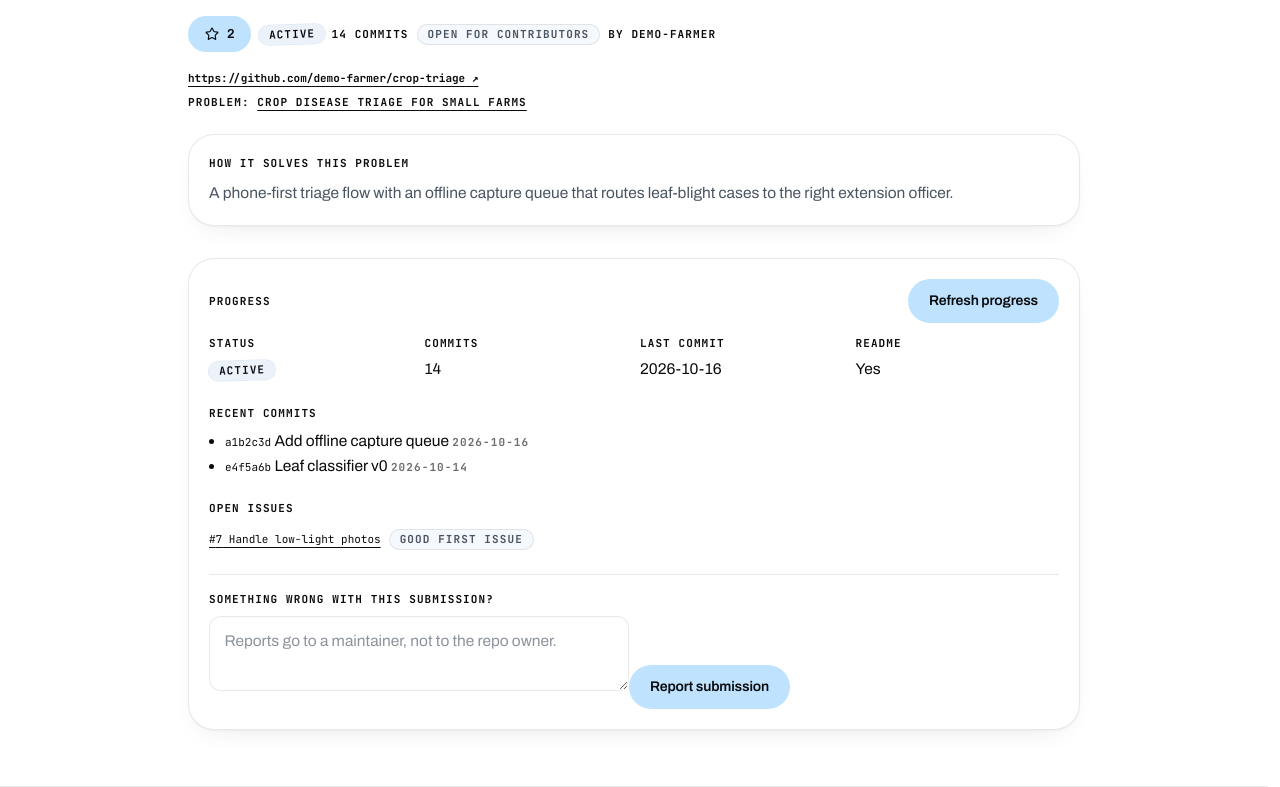
Scenario: ProjectDetailPage › maps report errors honestly: 409 already reported, 429 rate limited
(page scrolled)
Type "The progress numbers look stale to me." into the text box labelled "Something wrong with this submission?" at (419, 654), box [209,616,629,691]
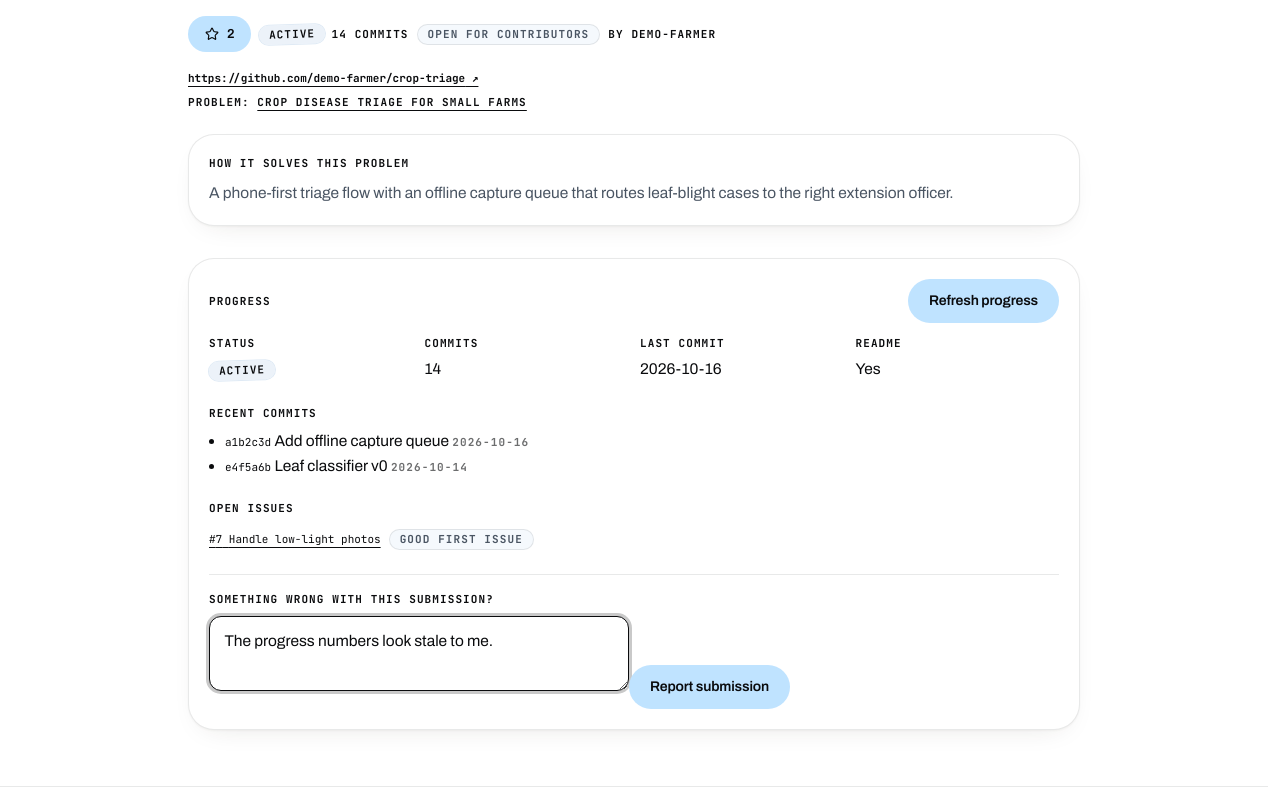
Click the button "Report submission" at (710, 687), box [629,665,790,709]
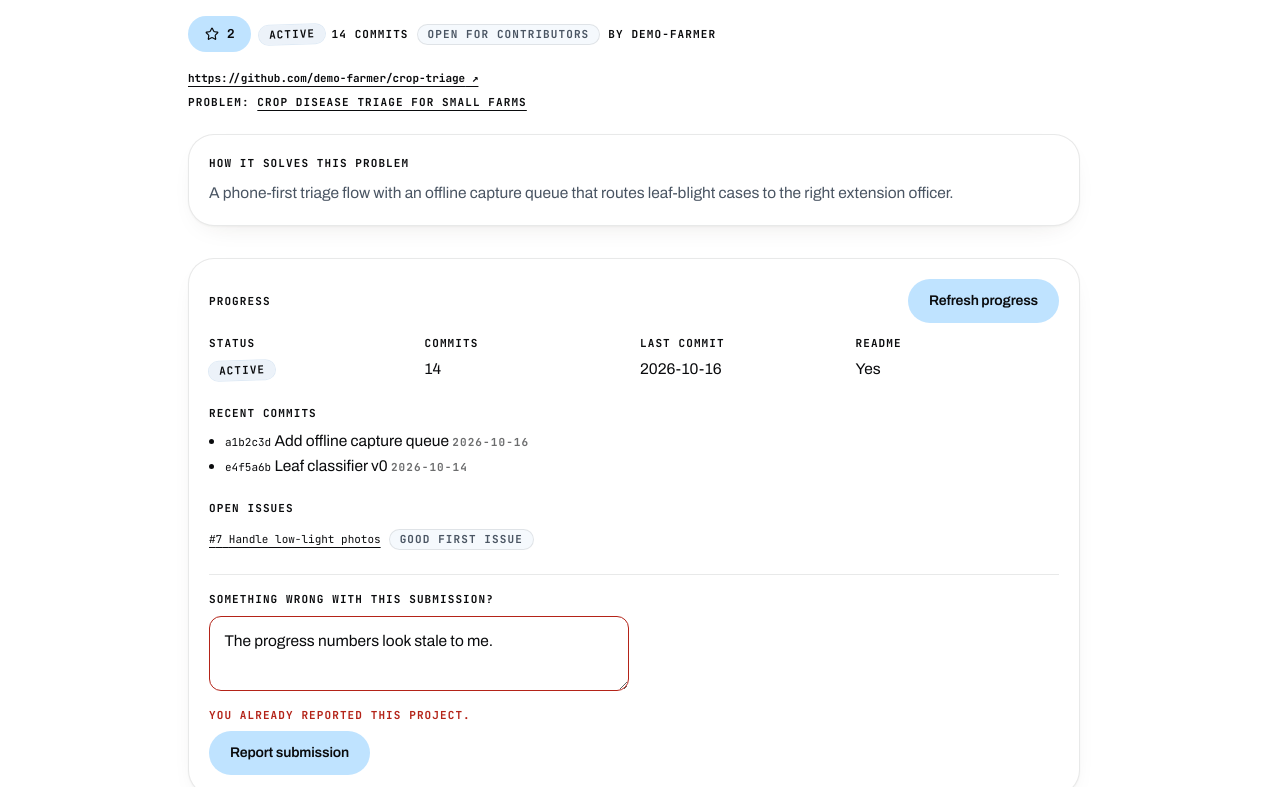
Expected: the text "You already reported this project." is shown, [209,708,471,722]
Replace the text in the text box labelled "Something wrong with this submission?" with "Another concrete reason to try again." at (419, 654), box [209,616,629,691]
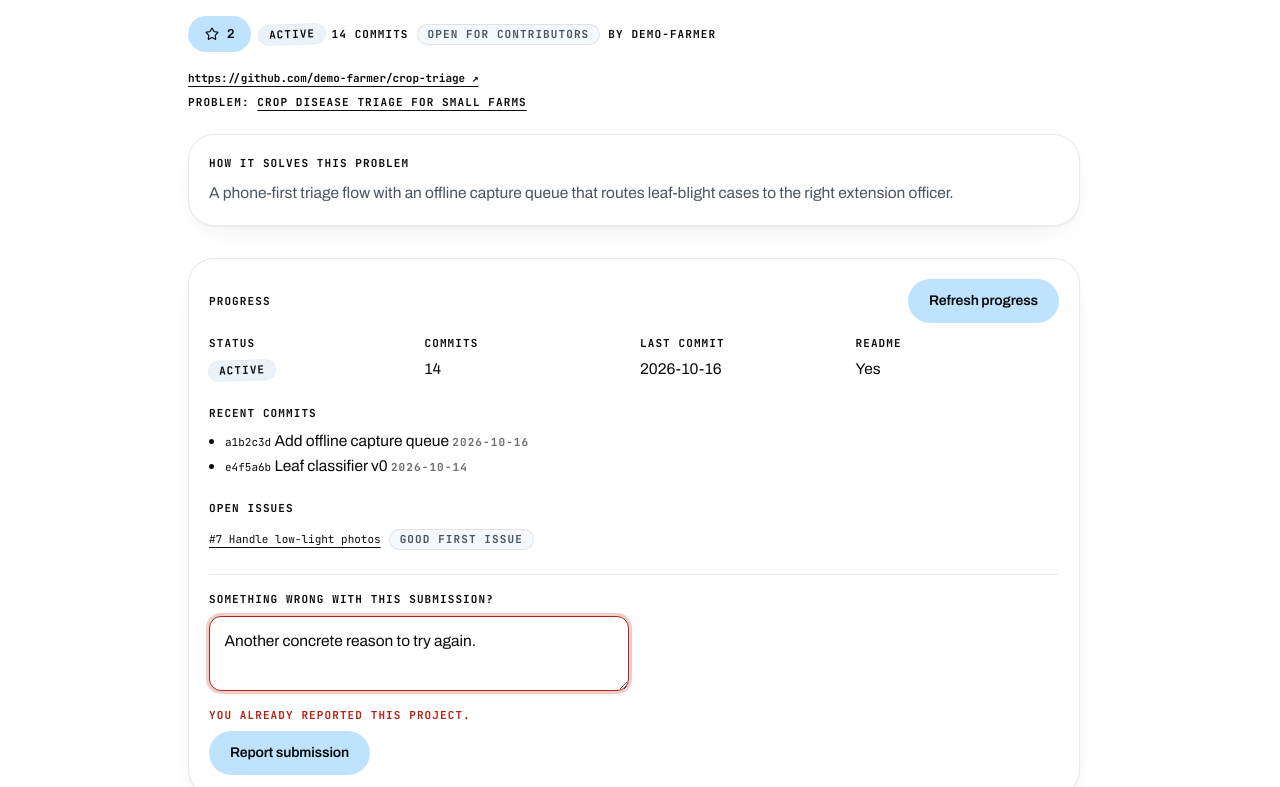
Click the button "Report submission" at (290, 754), box [209,732,370,776]
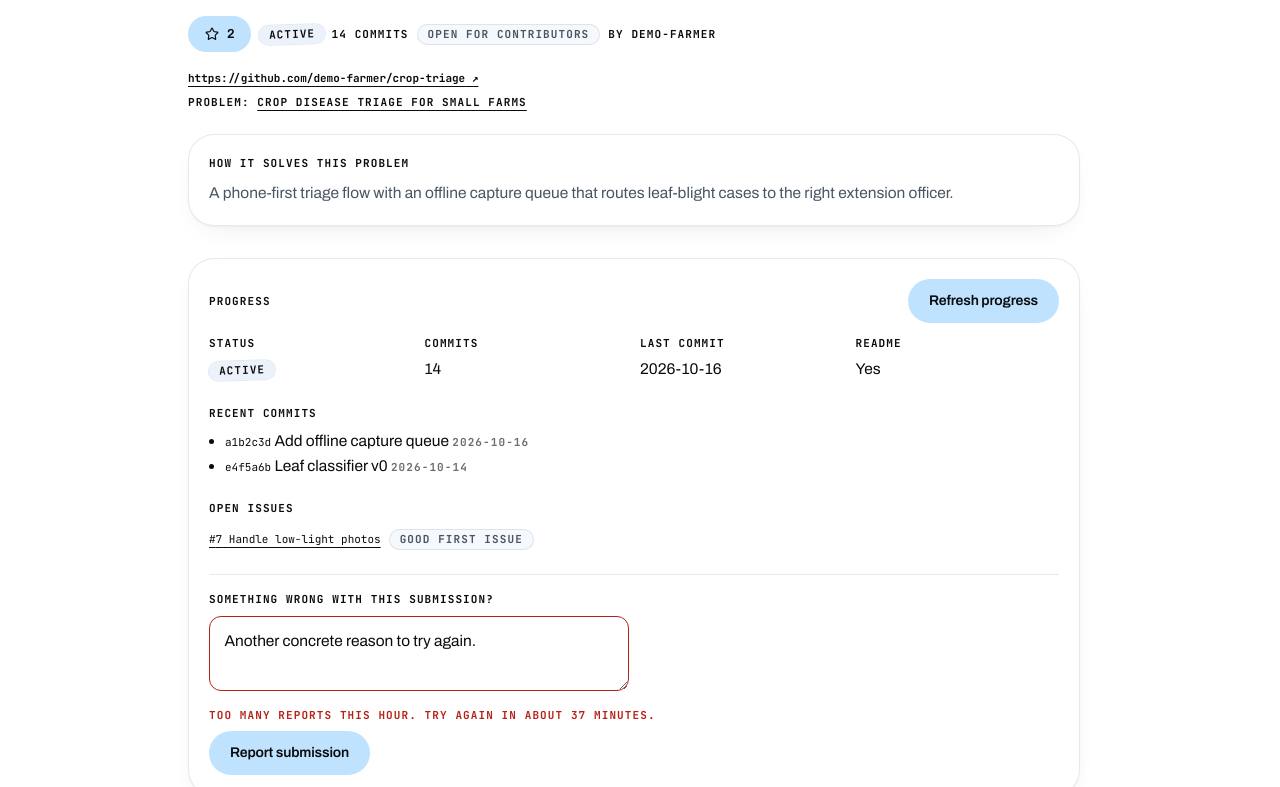
Expected: the text "Too many reports this hour. Try again in about 37 minutes." is shown, [209,708,656,722]
